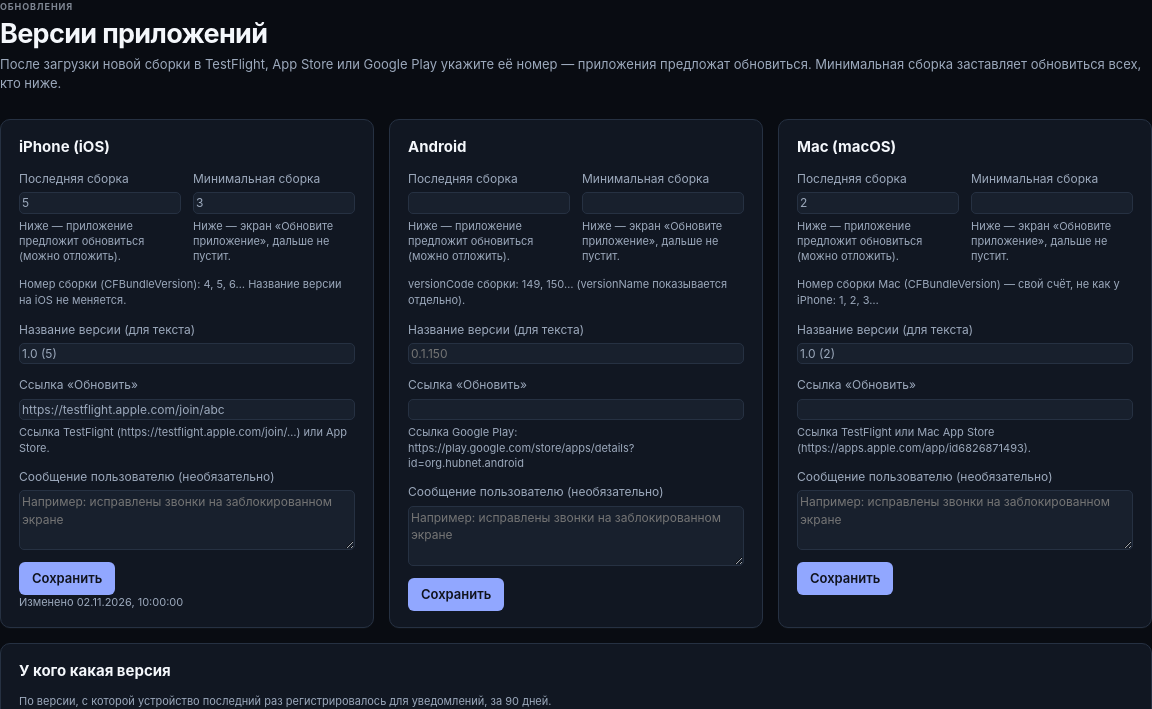
it: app versions page › blocks a minimum above the latest build
Replace the text in the number field labelled "Минимальная сборка" below "iPhone (iOS)" with "9". click: (274, 203)
box: [193,192,355,214]
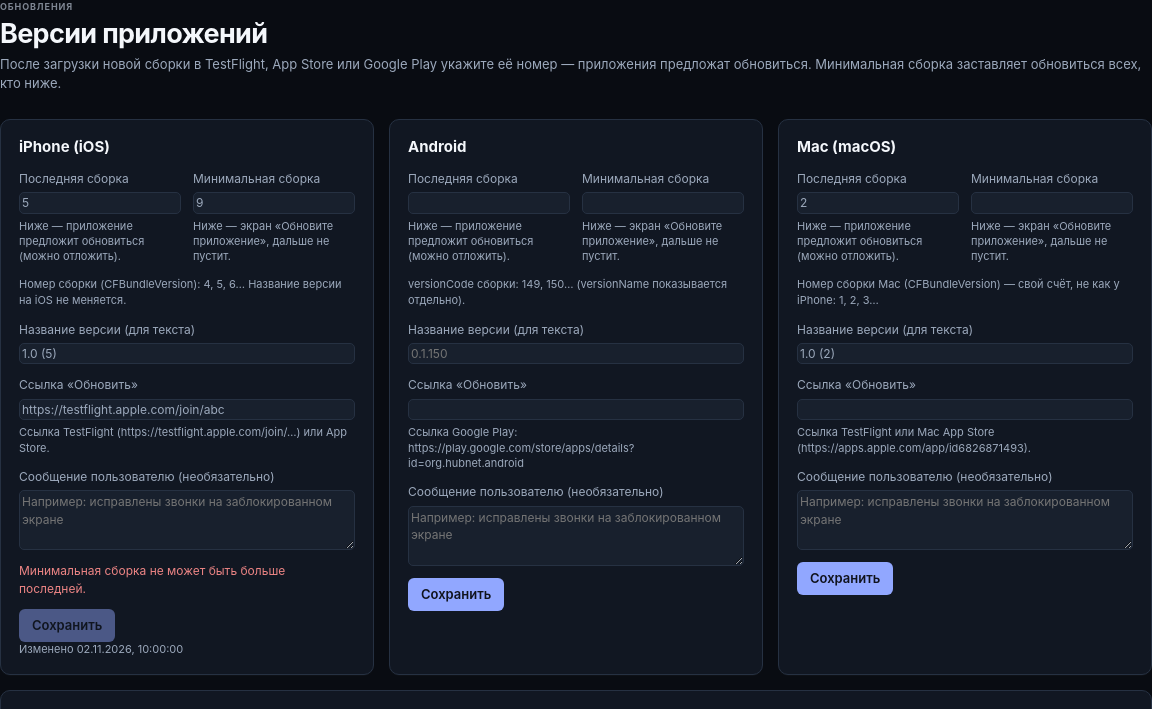
Now the message shows "Минимальная сборка не может быть больше последней", box [19,563,285,596]
Now the 3rd button "Сохранить" is disabled, box [19,609,115,642]
